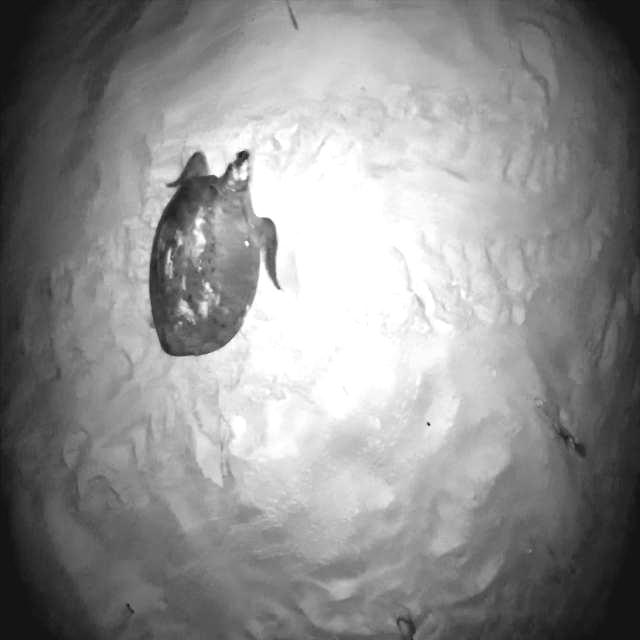Sea turtle: (146, 147, 293, 365)
